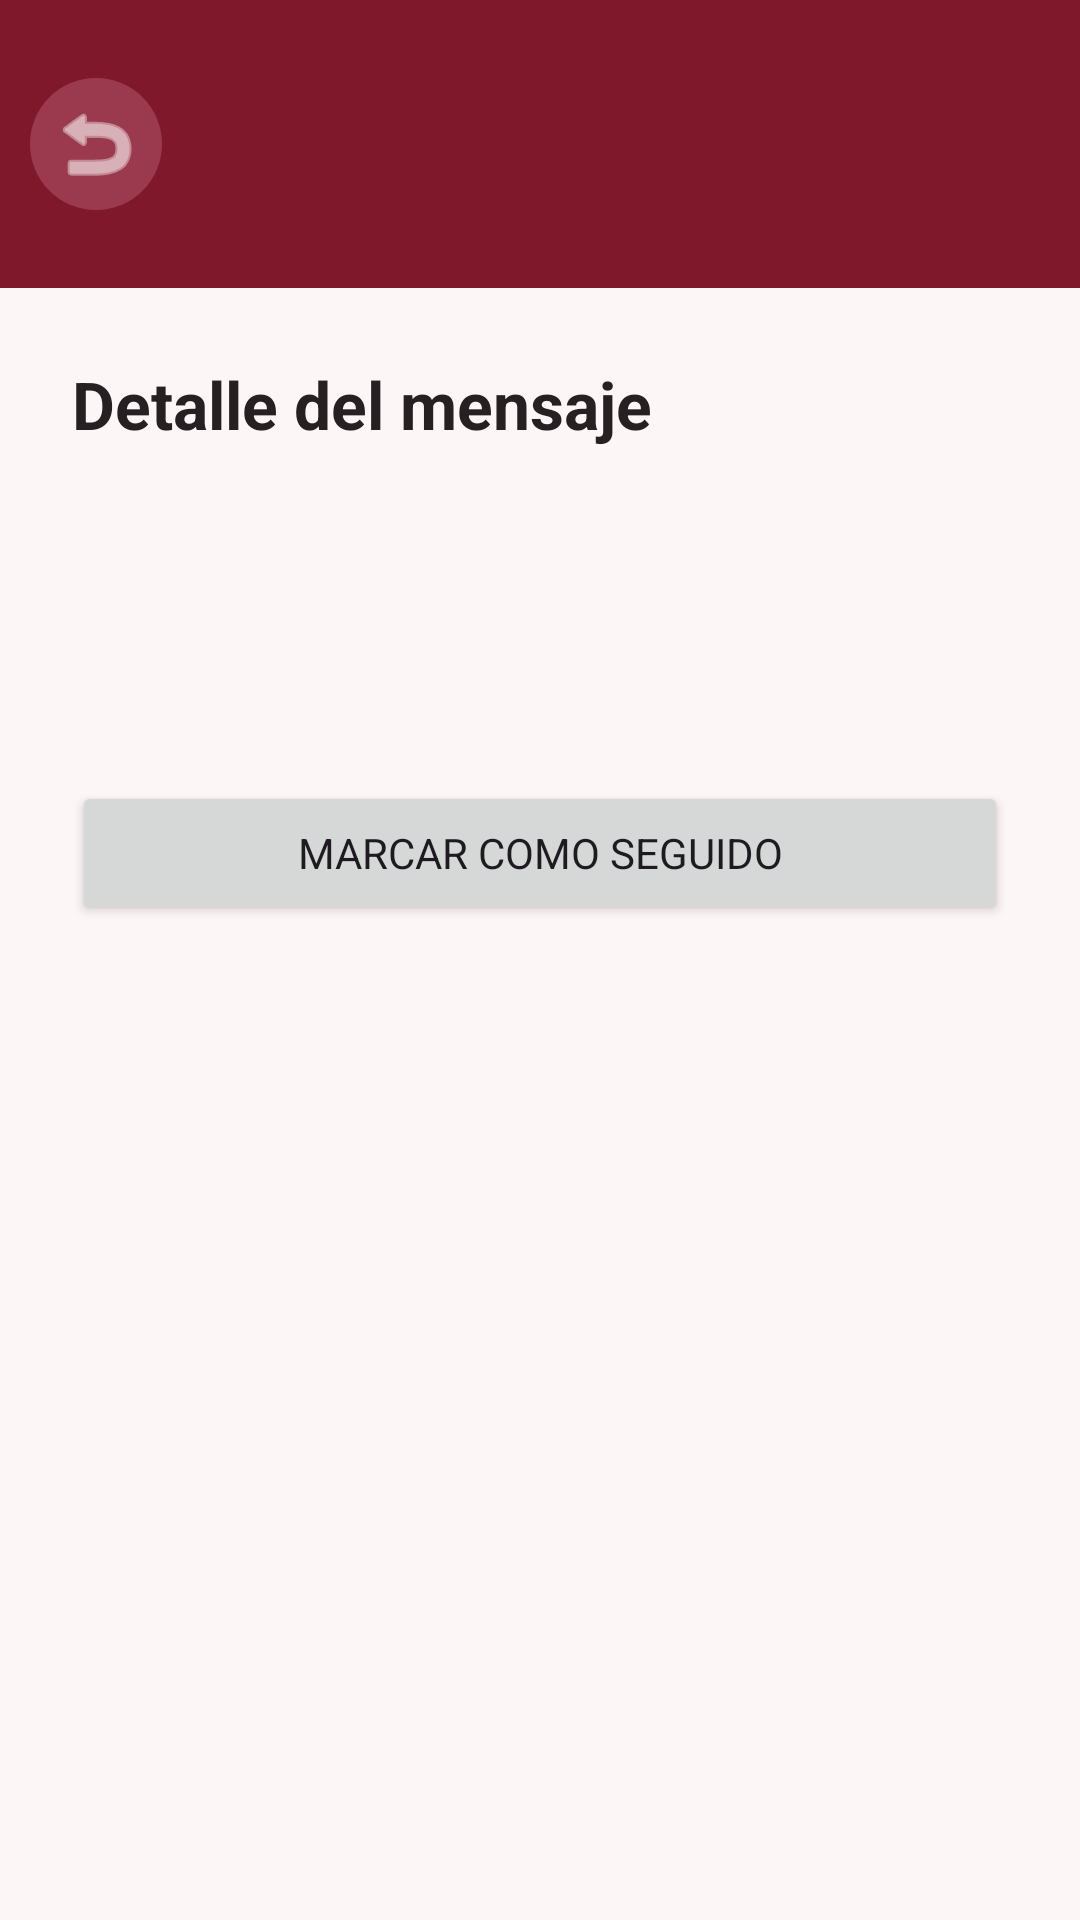

Icons on this 1080 × 1920 Android screen, each with the point to tap as [x,y]:
Volver: [96,144]
